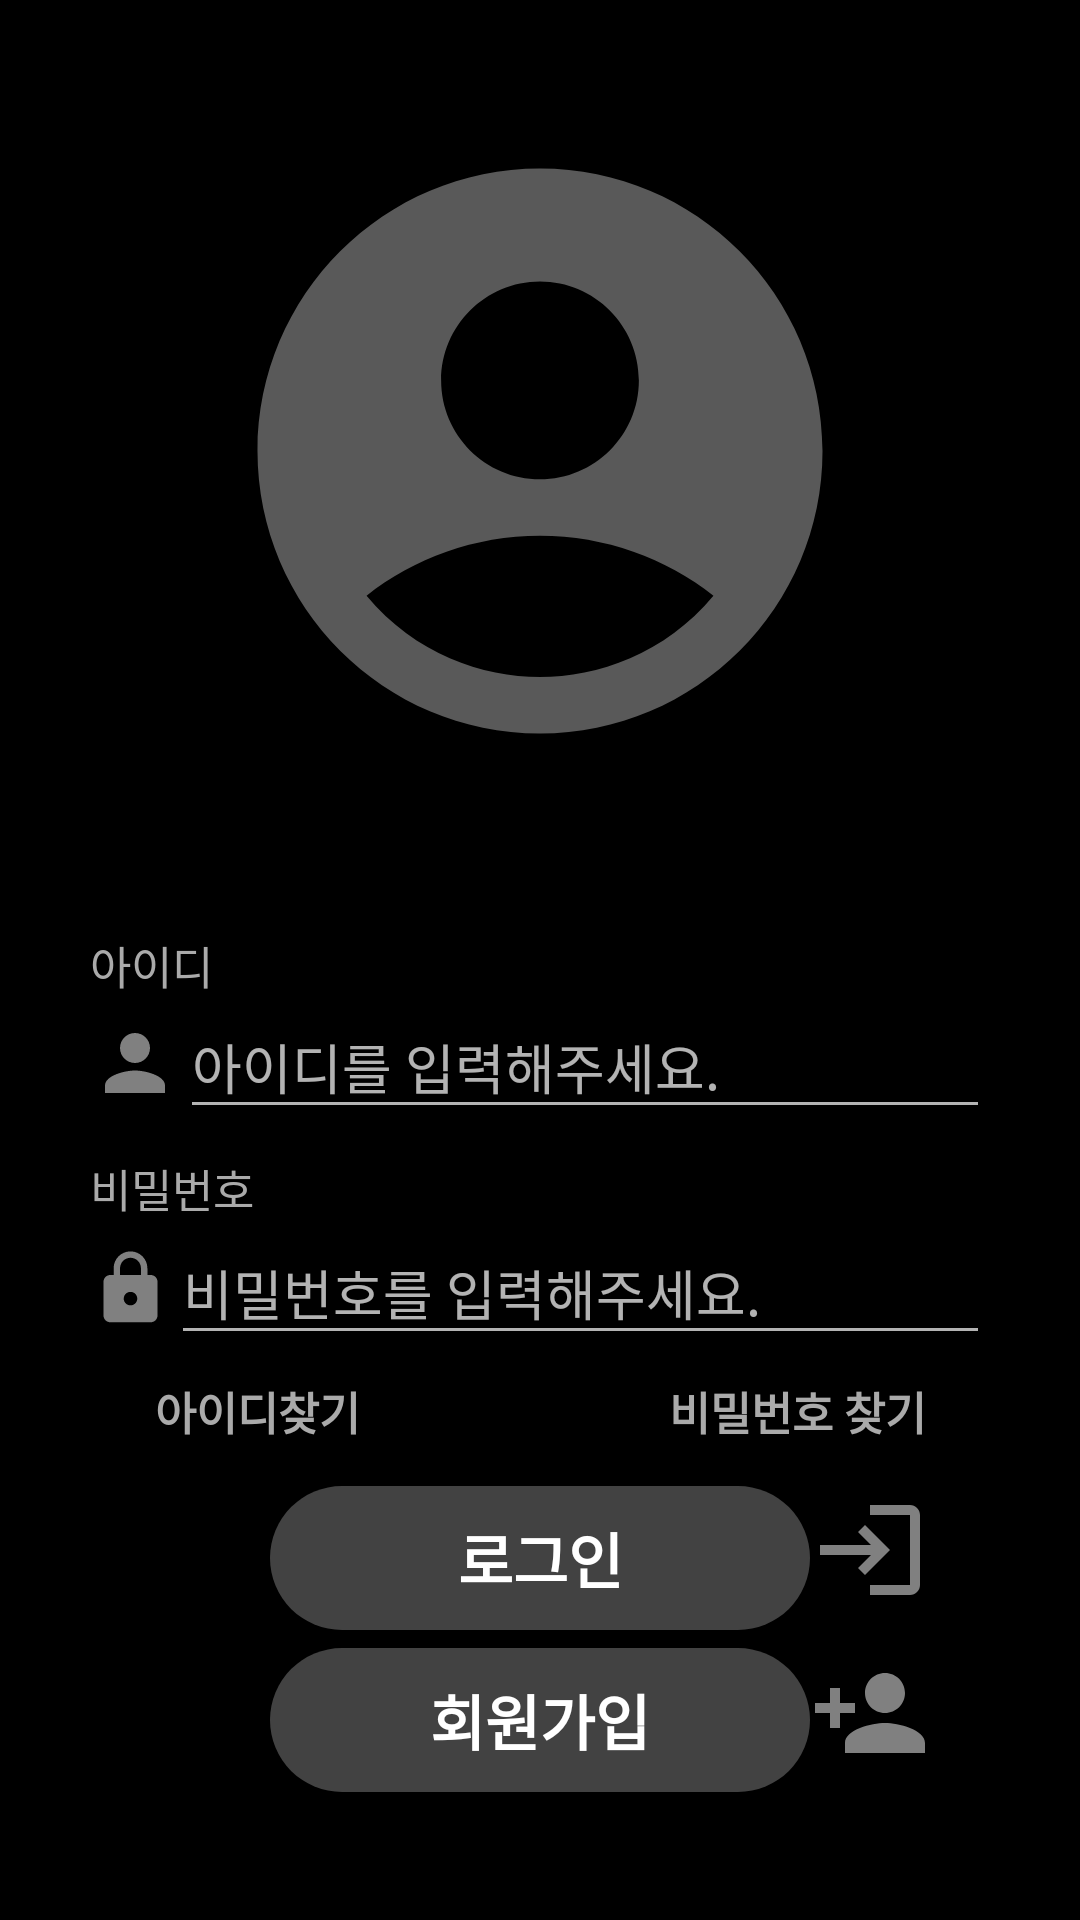

Screen size 1080 × 1920. Icon name, then its box in pixels as (x1=x1, y1=y1, x2=x2, y2=y2):
lock: (x1=103, y1=1251, x2=158, y2=1323)
login: (x1=820, y1=1505, x2=920, y2=1595)
person: (x1=105, y1=1033, x2=165, y2=1093)
person add: (x1=815, y1=1673, x2=925, y2=1753)
